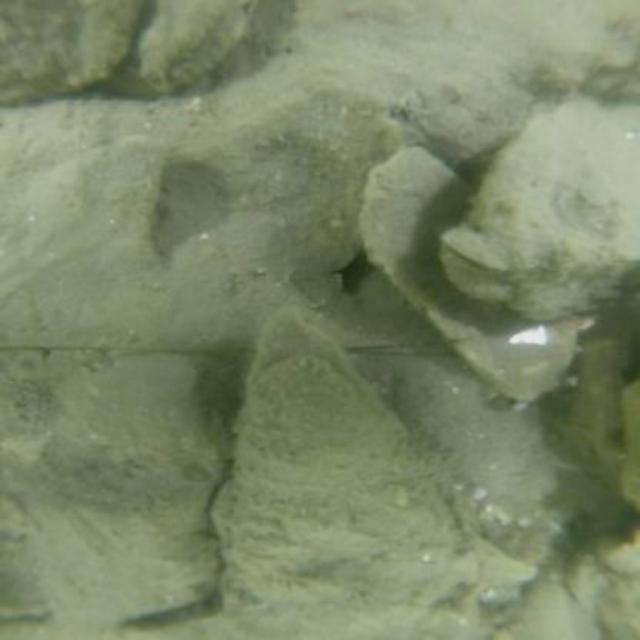Oyster-Closed: (222, 324, 465, 635), (356, 145, 579, 408), (29, 353, 217, 619), (166, 98, 394, 283), (248, 6, 533, 152), (447, 101, 637, 313), (16, 0, 137, 99), (139, 1, 247, 93), (507, 582, 600, 630)
